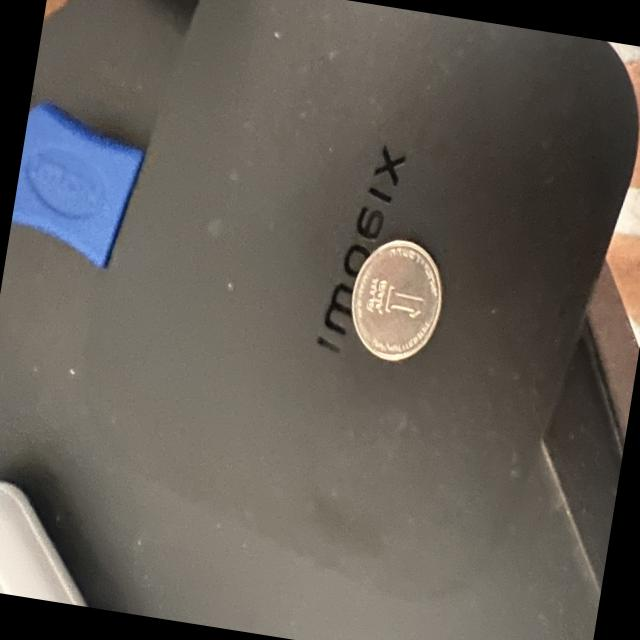1-shekel: (339, 232, 452, 371)
